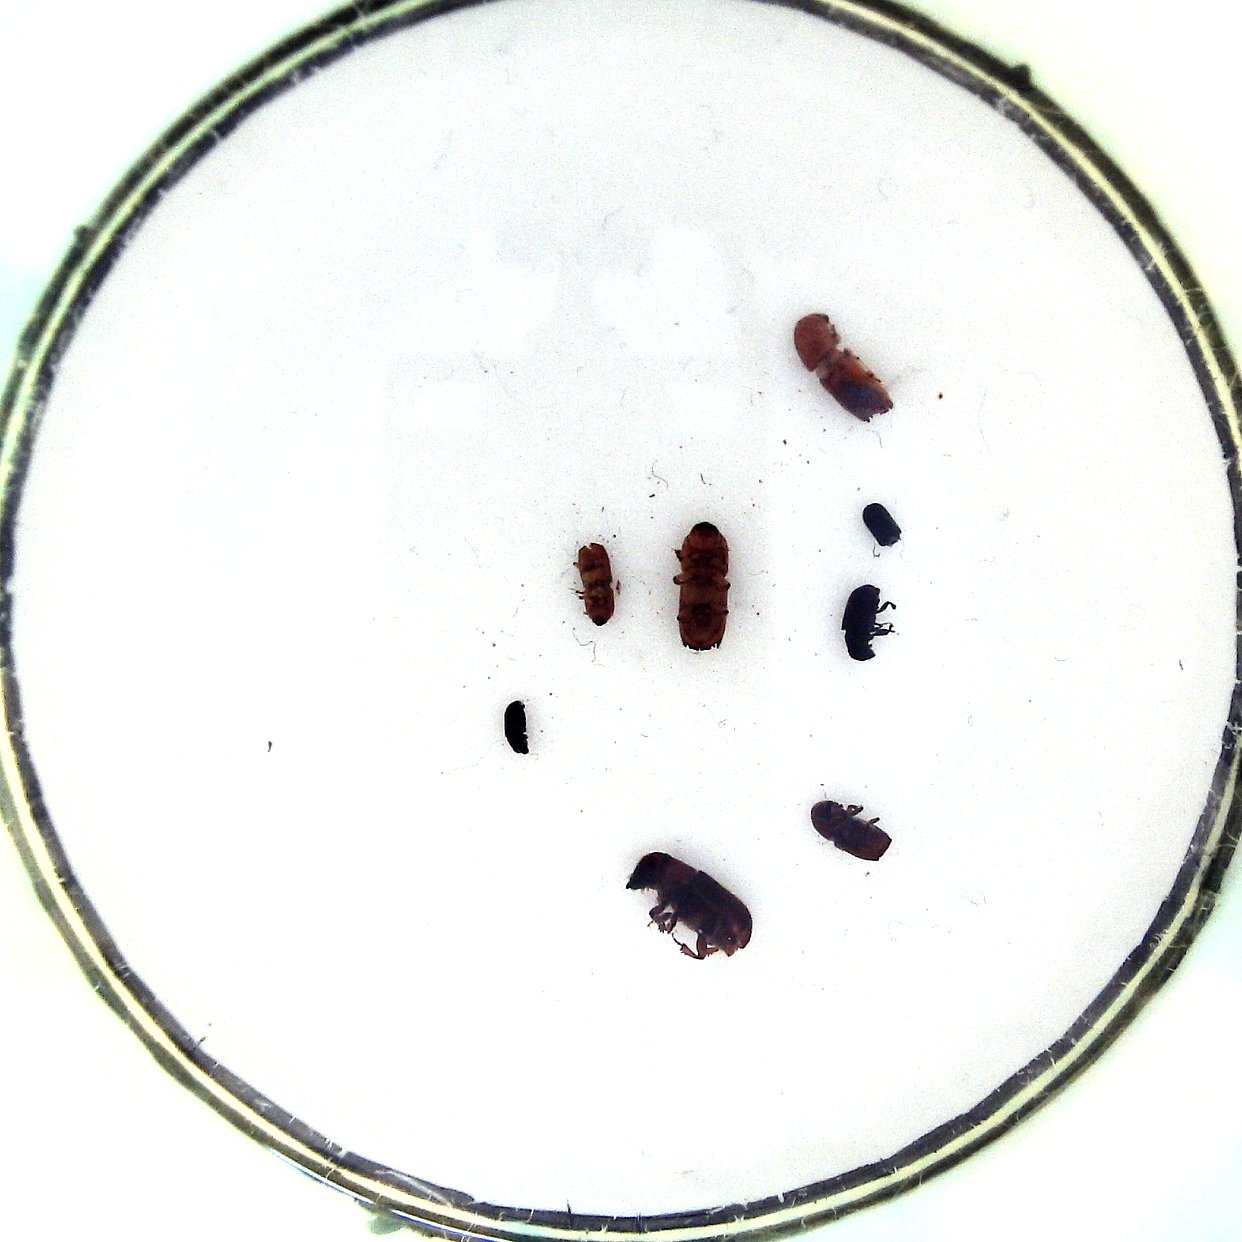Boerner: (794, 309, 895, 429), (666, 517, 735, 665)
Leconte: (623, 850, 757, 968)
Linnaeus: (810, 794, 892, 866)
acuminatus: (570, 529, 616, 635)
armandi: (843, 579, 904, 666)
coleoptera: (502, 694, 535, 763), (858, 502, 900, 547)
